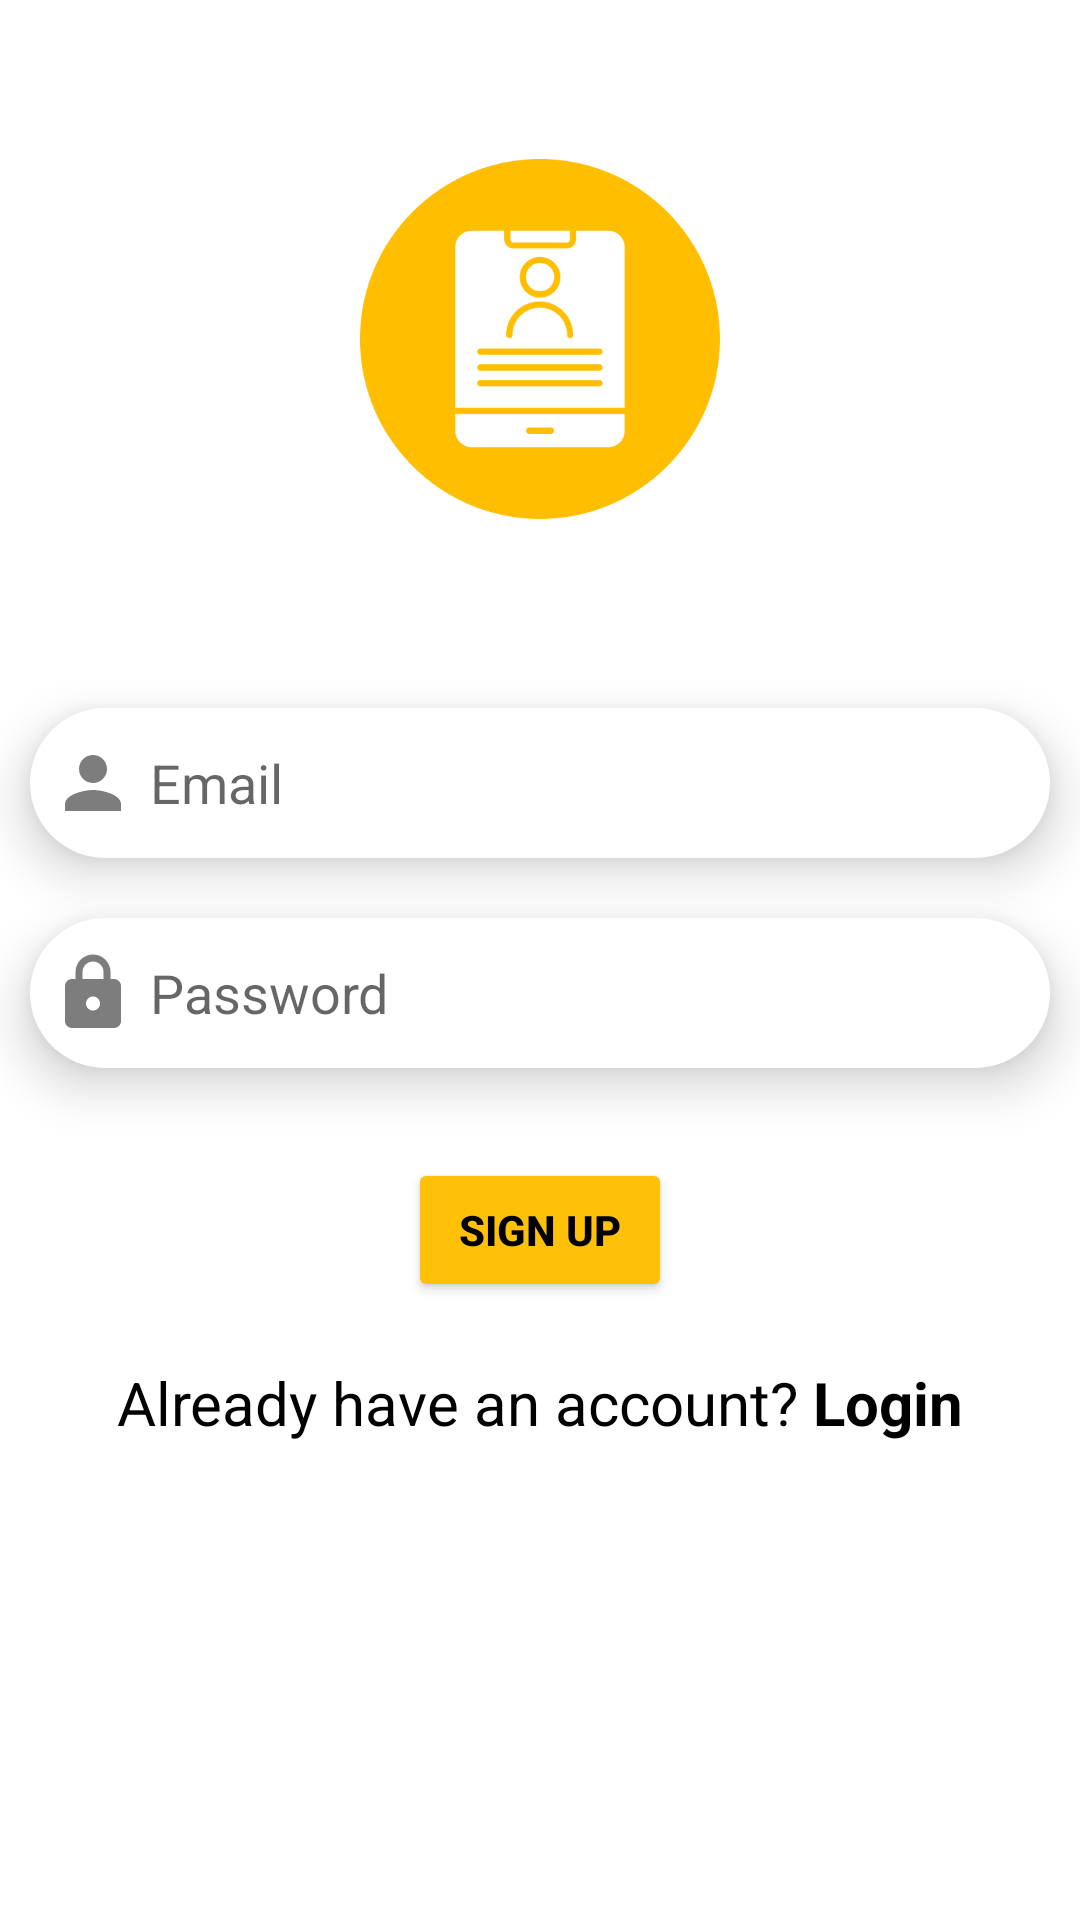

Icon bounding boxes for this 1080px x 1920px phone screenshot, format box=[x1, y1, x2, y2]:
enrollment: box=[360, 159, 720, 519]
